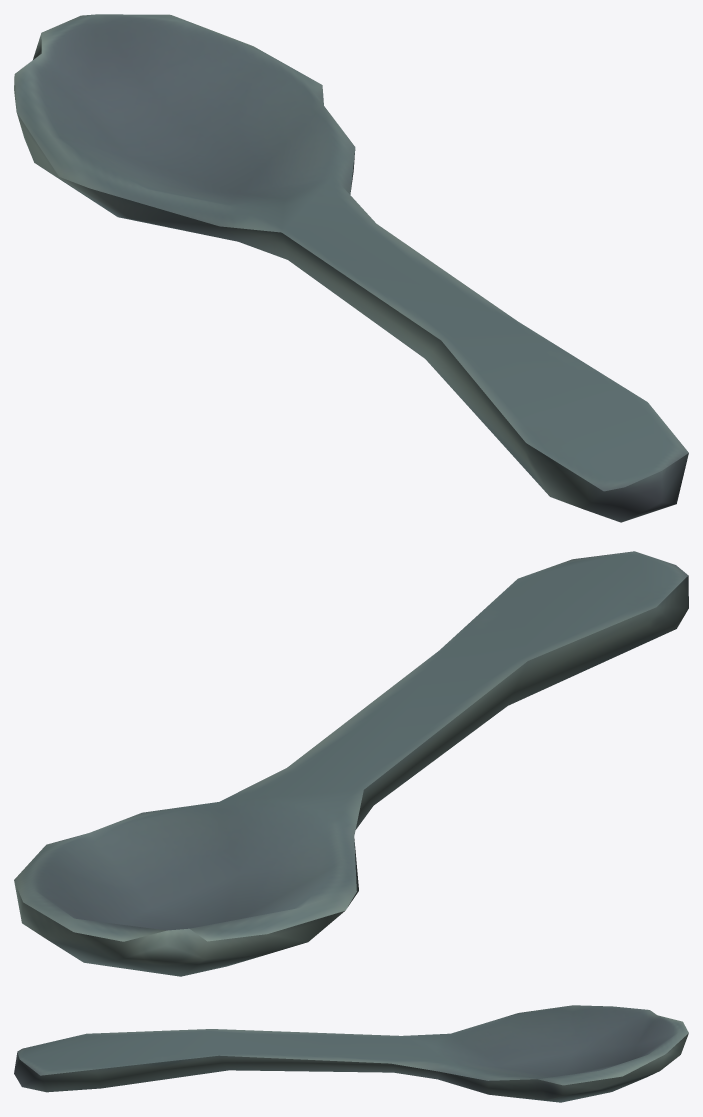
The model's file is SM_FW01_CampProp_Spoon_01.fbx.
3 views of the same model, one above another, from view 1: azimuth 30°, elevation 25°; view 2: azimuth 150°, elevation 25°; view 3: azimuth 270°, elevation 25° (orthographic). The views are drawn at different scales.
Parts seen in each view (by area): view 1: SM_FW01_CampProp_Spoon_01_LOD0; view 2: SM_FW01_CampProp_Spoon_01_LOD0; view 3: SM_FW01_CampProp_Spoon_01_LOD0.
Part boxes in pixels (<box>): SM_FW01_CampProp_Spoon_01_LOD0: <box>14,14,688,522</box>; SM_FW01_CampProp_Spoon_01_LOD0: <box>14,551,688,976</box>; SM_FW01_CampProp_Spoon_01_LOD0: <box>14,1005,688,1102</box>.
Size of what is drawn, in the model's own units: 0.1678 by 0.0573 by 0.5952.
